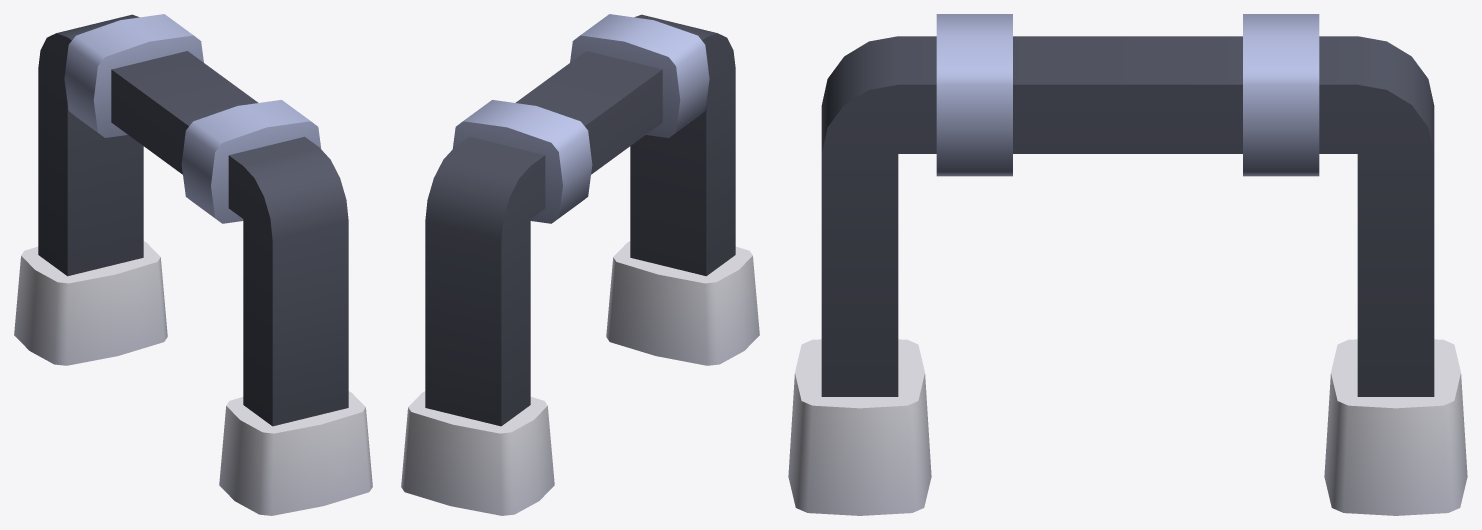
File: scanner-high.obj
3 renders of one model, left to right at view 1: azimuth 30°, elevation 25°; view 2: azimuth 150°, elevation 25°; view 3: azimuth 270°, elevation 25°, orthographic. The views are drawn at different scales.
Parts seen in each view (by area): view 1: scanner-high; view 2: scanner-high; view 3: scanner-high.
Part boxes in pixels (x1,y1,x2,y2): scanner-high: (14, 14, 372, 515); scanner-high: (401, 14, 759, 515); scanner-high: (788, 14, 1467, 515).
Size of the model in its own units: 0.484 by 1.27 by 1.77.
